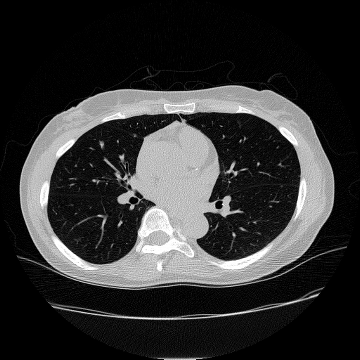nodule: (98, 141, 104, 147)
